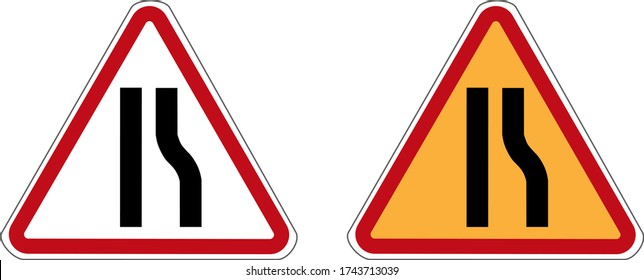narrow-road: (96, 75, 211, 236), (448, 80, 558, 238)
